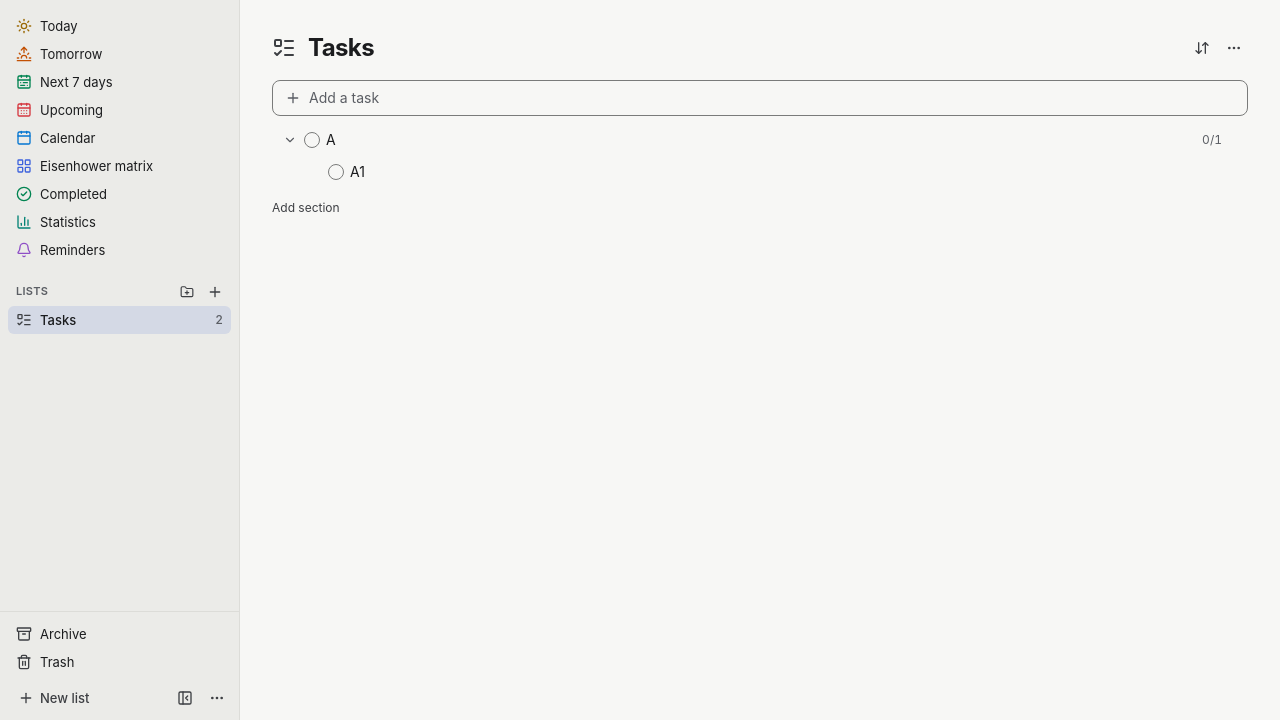
Scenario: TodoList › checks a parent together with its subtasks
Expected: the text "0/1" is shown, [1202,132,1222,148]
What coordinates should you click on to do the following:
click the checkbox named "A"
I would click on:
 (312, 140)
Its box is [304,132,320,148].
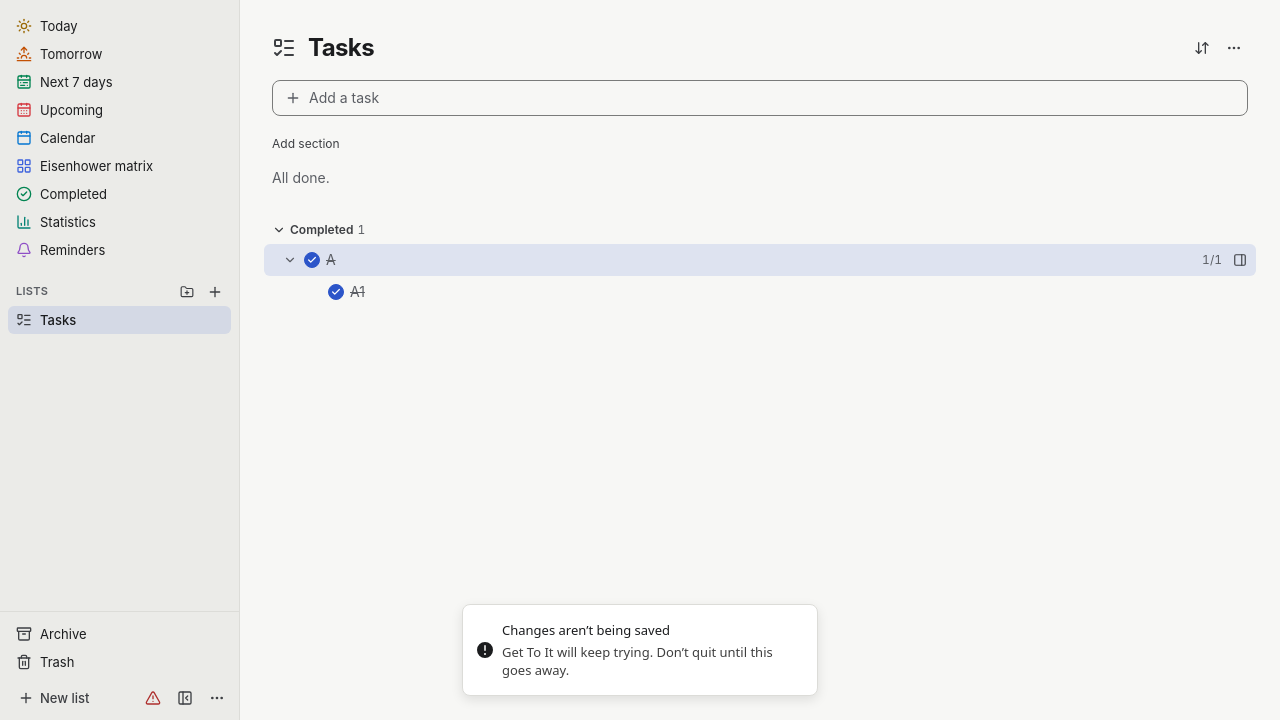
Result: the checkbox named "A1" is checked at [328,284,344,300]
